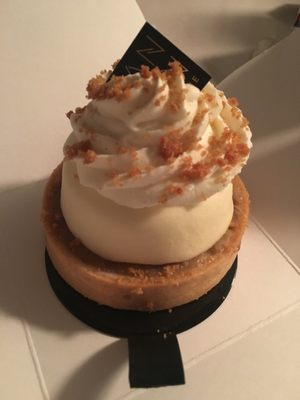sushi: (42, 61, 255, 315)
